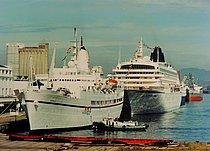Ship: (107, 36, 186, 116)
